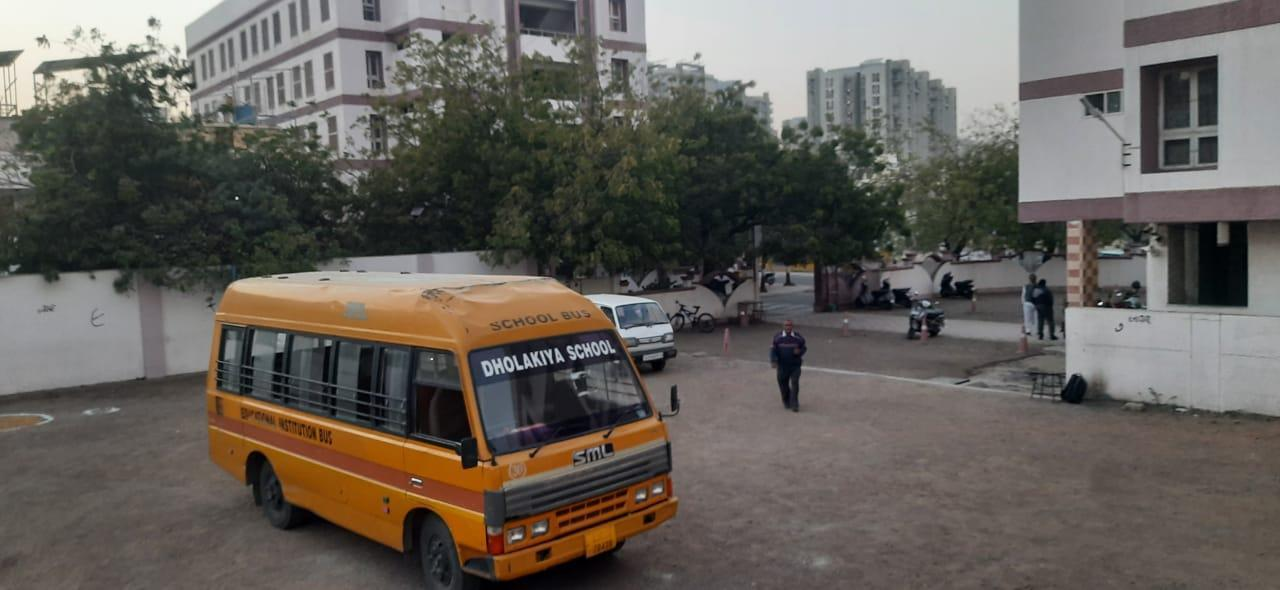Bus: (210, 268, 696, 572)
